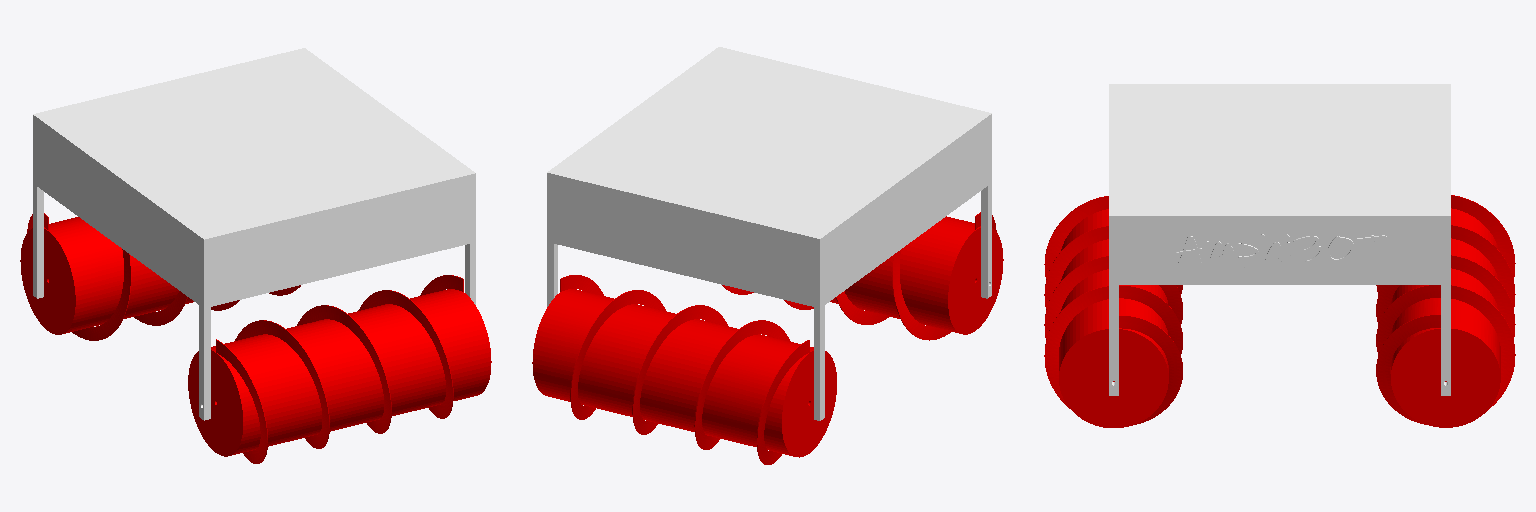
robot.urdf — amphibot:
<?xml version="1.0" ?>
<!-- =================================================================================== -->
<!-- |    This document was autogenerated by xacro from src/amphibious_robot_description/description/amphibot.urdf.xacro | -->
<!-- |    EDITING THIS FILE BY HAND IS NOT RECOMMENDED                                 | -->
<!-- =================================================================================== -->
<robot name="amphibot">
  <material name="white">
    <color rgba="1 1 1 1"/>
  </material>
  <material name="red">
    <color rgba="1.0 0.0 0.0 1.0"/>
  </material>
  <material name="blue">
    <color rgba=".2 .2 1 1"/>
  </material>
  <!-- Body -->
  <link name="base_link">
    <visual>
      <geometry>
        <mesh filename="package://amphibious_robot_description/meshes/body.stl" scale="0.001 0.001 0.001"/>
      </geometry>
      <material name="white"/>
    </visual>
    <collision>
      <geometry>
        <mesh filename="package://amphibious_robot_description/meshes/body.stl" scale="0.001 0.001 0.001"/>
      </geometry>
      <material name="white"/>
      <gazebo>
        <material>Gazebo/White</material>
      </gazebo>
    </collision>
    <inertial>
      <mass value="4.8"/>
      <inertia ixx="0.0612" ixy="0.0" ixz="0.0" iyy="0.06948" iyz="0.0" izz="0.0954"/>
    </inertial>
  </link>
  <!--right shaft-->
  <link name="rshaft_link">
    <visual>
      <geometry>
        <mesh filename="package://amphibious_robot_description/meshes/rshaft.stl" scale="0.001 0.001 0.001"/>
      </geometry>
      <material name="blue"/>
    </visual>
    <collision>
      <geometry>
        <mesh filename="package://amphibious_robot_description/meshes/rshaft.stl" scale="0.001 0.001 0.001"/>
      </geometry>
      <material name="blue"/>
      <gazebo>
        <material>Gazebo/Blue</material>
      </gazebo>
    </collision>
    <inertial>
      <mass value="0.1"/>
      <inertia ixx="0.00133" ixy="0.0" ixz="0.0" iyy="0.00133" iyz="0.0" izz="0.0000003125"/>
    </inertial>
  </link>
  <joint name="rshaft_joint" type="fixed">
    <parent link="base_link"/>
    <child link="rshaft_link"/>
    <origin rpy="0 -1.5708 0" xyz=".36 0.005  -.115"/>
  </joint>
  <!--left shaft-->
  <link name="lshaft_link">
    <visual>
      <geometry>
        <mesh filename="package://amphibious_robot_description/meshes/lshaft.stl" scale="0.001 0.001 0.001"/>
      </geometry>
      <material name="blue"/>
    </visual>
    <collision>
      <geometry>
        <mesh filename="package://amphibious_robot_description/meshes/lshaft.stl" scale="0.001 0.001 0.001"/>
      </geometry>
      <material name="blue"/>
      <gazebo>
        <material>Gazebo/Blue</material>
      </gazebo>
    </collision>
    <inertial>
      <mass value="0.1"/>
      <inertia ixx="0.00133" ixy="0.0" ixz="0.0" iyy="0.00133" iyz="0.0" izz="0.0000003125"/>
    </inertial>
  </link>
  <joint name="lshaft_joint" type="fixed">
    <parent link="base_link"/>
    <child link="lshaft_link"/>
    <origin rpy="0 -1.5708 0" xyz=".36 0.355 -.115"/>
  </joint>
  <!-- Left Wheel -->
  <link name="left_wheel_link">
    <visual>
      <geometry>
        <mesh filename="package://amphibious_robot_description/meshes/left_wheel.stl" scale="0.001 0.001 0.001"/>
      </geometry>
      <material name="red"/>
    </visual>
    <collision>
      <geometry>
        <mesh filename="package://amphibious_robot_description/meshes/left_wheel.stl" scale="0.001 0.001 0.001"/>
      </geometry>
      <material name="red"/>
      <gazebo>
        <material>Gazebo/Red</material>
      </gazebo>
    </collision>
    <inertial>
      <mass value="0.5"/>
      <inertia ixx="0.00733" ixy="0.0" ixz="0.0" iyy="0.00733" iyz="0.0" izz="0.00133"/>
    </inertial>
  </link>
  <joint name="left_wheel_joint" type="continuous">
    <parent link="lshaft_link"/>
    <child link="left_wheel_link"/>
    <origin rpy="0 0 0" xyz="0 0 .05"/>
    <axis xyz="0 0 1"/>
  </joint>
  <!-- Right Wheel -->
  <link name="right_wheel_link">
    <visual>
      <geometry>
        <mesh filename="package://amphibious_robot_description/meshes/right_wheel.stl" scale="0.001 0.001 0.001"/>
      </geometry>
      <material name="red"/>
    </visual>
    <collision>
      <geometry>
        <mesh filename="package://amphibious_robot_description/meshes/right_wheel.stl" scale="0.001 0.001 0.001"/>
      </geometry>
      <material name="red"/>
      <gazebo>
        <material>Gazebo/Red</material>
      </gazebo>
    </collision>
    <inertial>
      <mass value="0.5"/>
      <inertia ixx="0.00733" ixy="0.0" ixz="0.0" iyy="0.00733" iyz="0.0" izz="0.00133"/>
    </inertial>
  </link>
  <joint name="right_wheel_joint" type="continuous">
    <parent link="rshaft_link"/>
    <child link="right_wheel_link"/>
    <origin rpy="0 0 0" xyz="0 0 .05"/>
    <axis xyz="0 0 1"/>
  </joint>
</robot>

--- What the picture shows (computed from the rendered views, not written in the file) ---
Views: 3 orthographic renders of the robot side by side, from view 1: azimuth 30°, elevation 25°; view 2: azimuth 150°, elevation 25°; view 3: azimuth 270°, elevation 25°.
Robot: amphibot — 5 links, 4 joints (2 continuous, 2 fixed); root link base_link; default pose: every joint at zero.
Links seen in each view (by area): view 1: base_link, right_wheel_link, left_wheel_link; view 2: base_link, left_wheel_link, right_wheel_link; view 3: base_link, left_wheel_link, right_wheel_link.
Link boxes in pixels (x1,y1,x2,y2): base_link: (33,48,475,420); right_wheel_link: (188,275,491,463); left_wheel_link: (20,213,300,340); base_link: (547,47,991,420); left_wheel_link: (532,275,836,464); right_wheel_link: (722,212,1003,340); base_link: (1109,84,1450,395); left_wheel_link: (1376,195,1515,427); right_wheel_link: (1044,196,1182,427).
Bounding box of the posed robot: 0.332 × 0.4967 × 0.2685 m (x, y, z).
Meshes: 5 distinct files referenced, 3 mesh visuals loaded (3 binary STL); not drawn: 2 (reference not matched to a file when rendering).